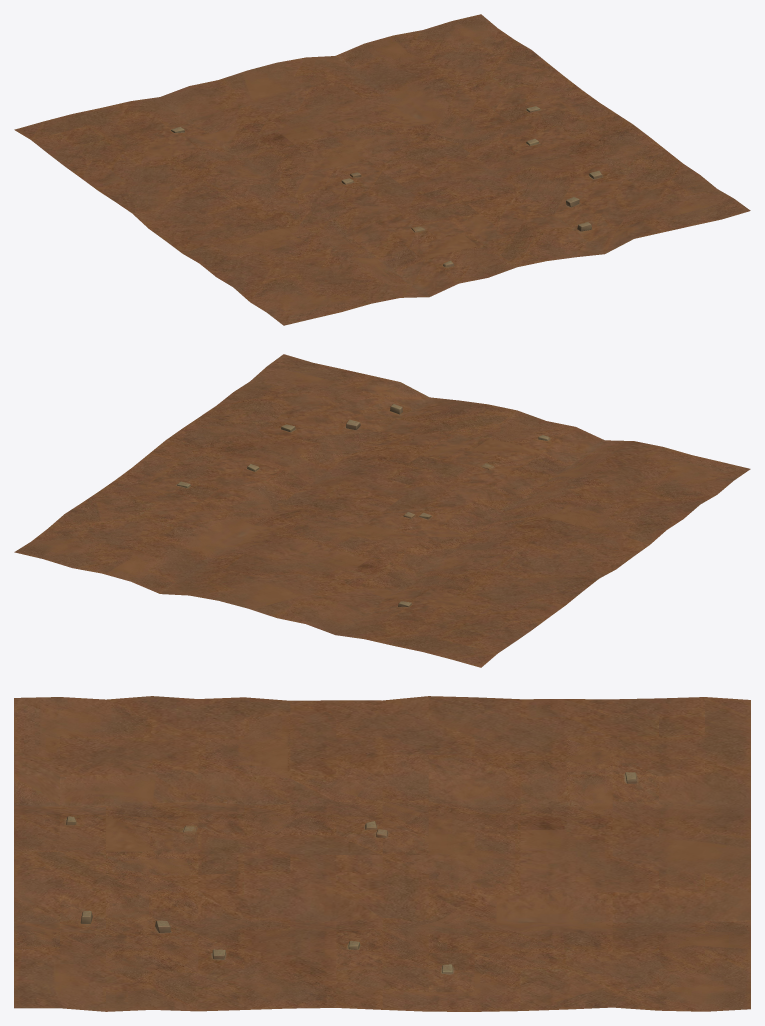
The model's file is road_dirt.glb.
3 views of the same model, one above another, from view 1: azimuth 30°, elevation 25°; view 2: azimuth 150°, elevation 25°; view 3: azimuth 270°, elevation 25° (orthographic). The views are drawn at different scales.
Parts seen in each view (by area): view 1: road_dirt; view 2: road_dirt; view 3: road_dirt.
Part boxes in pixels (x1,y1,x2,y2): road_dirt: (14,14,750,325); road_dirt: (14,354,750,667); road_dirt: (14,696,750,1011).
Size of the model in its own units: 4 by 0.087 by 4.
Materials: 1 (1 with a texture image).
